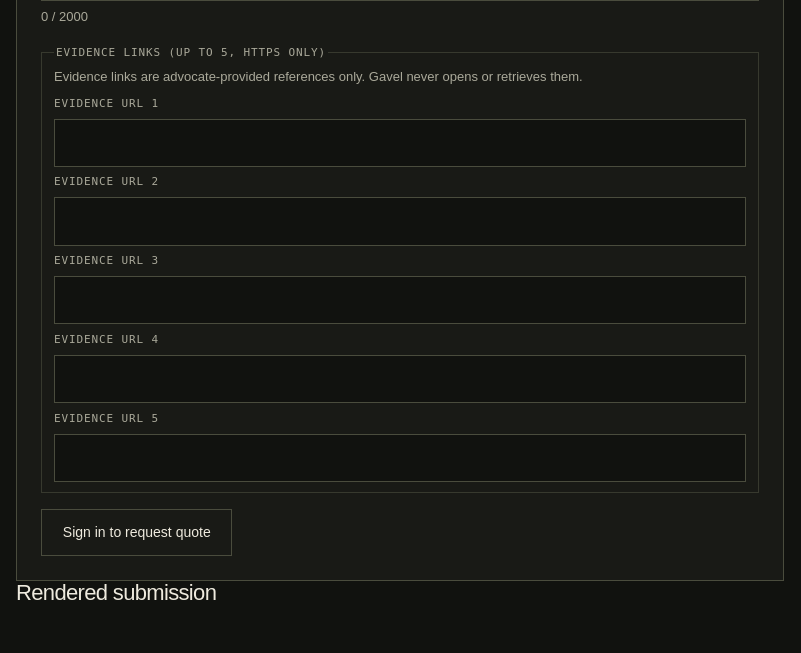
SubmissionComposer advocate session › refuses to sign as a different account than the header connection
(page scrolled)
What coordinates should you click on to do the following:
click the button "Sign in to request quote"
I would click on:
 (137, 532)
Its box is [41,509,232,556].
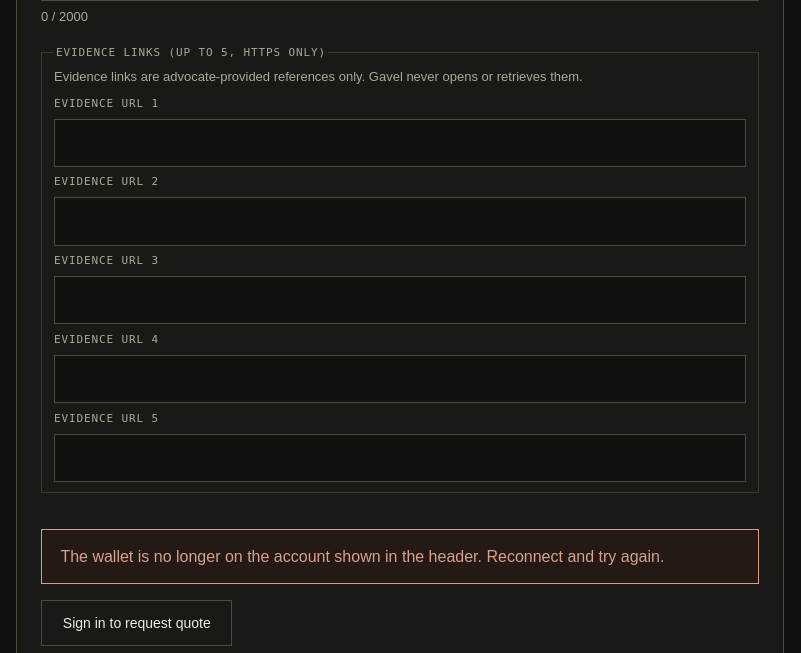
Result: the message shows "no longer on the account" at [60,548,664,564]
